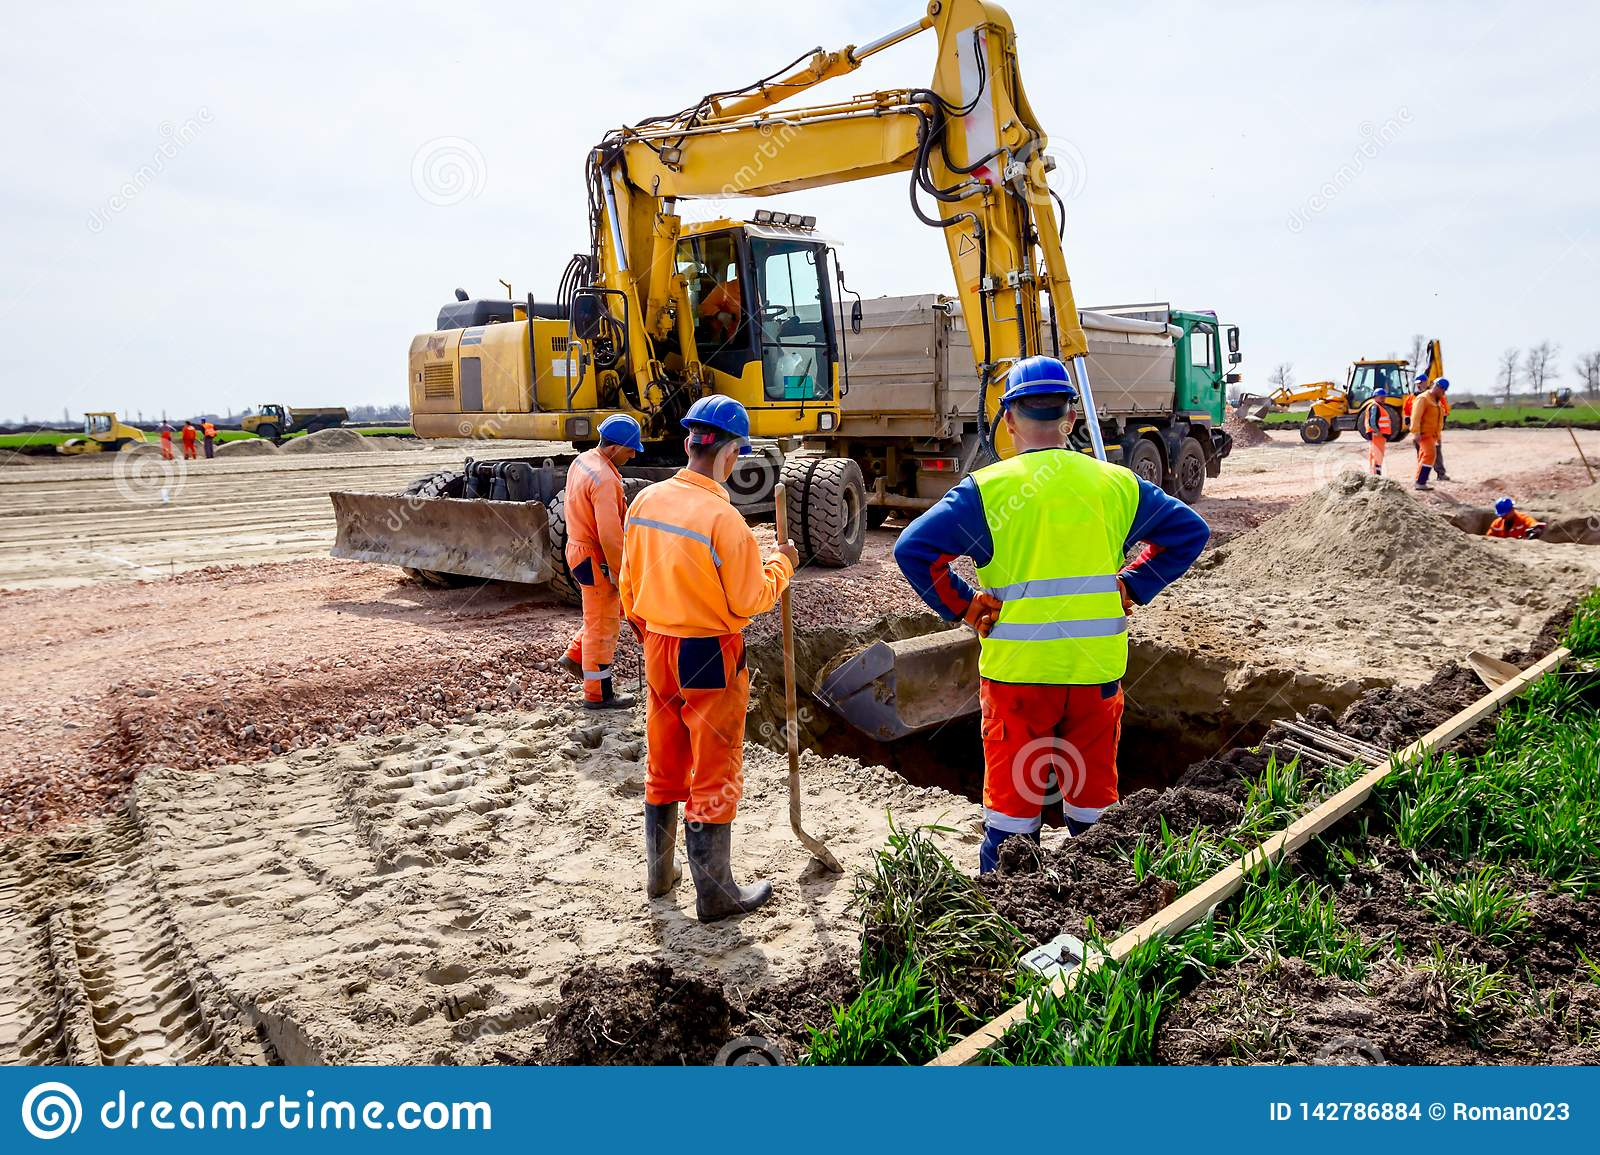With Helmet: (677, 387, 754, 484), (1002, 350, 1080, 446), (590, 407, 648, 467)
